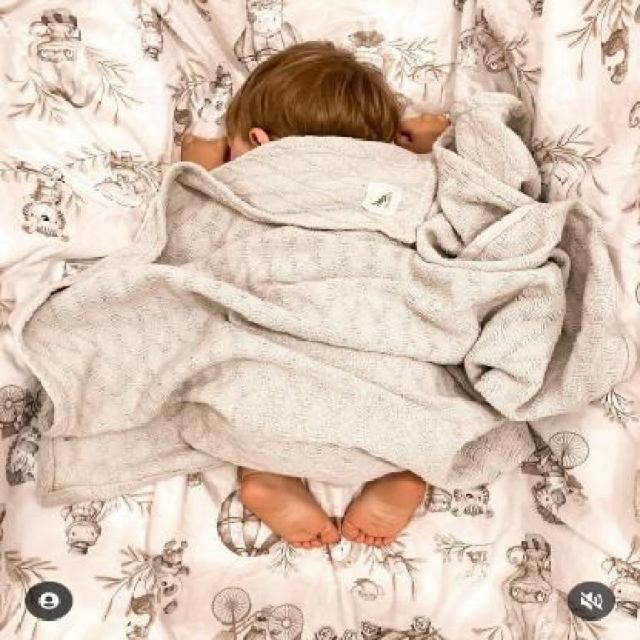baby: (174, 37, 456, 545)
